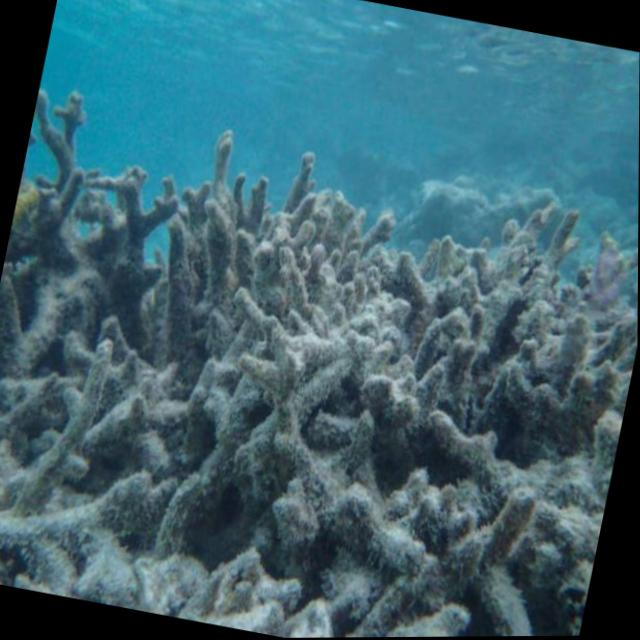Dead Coral: (0, 104, 639, 640)
